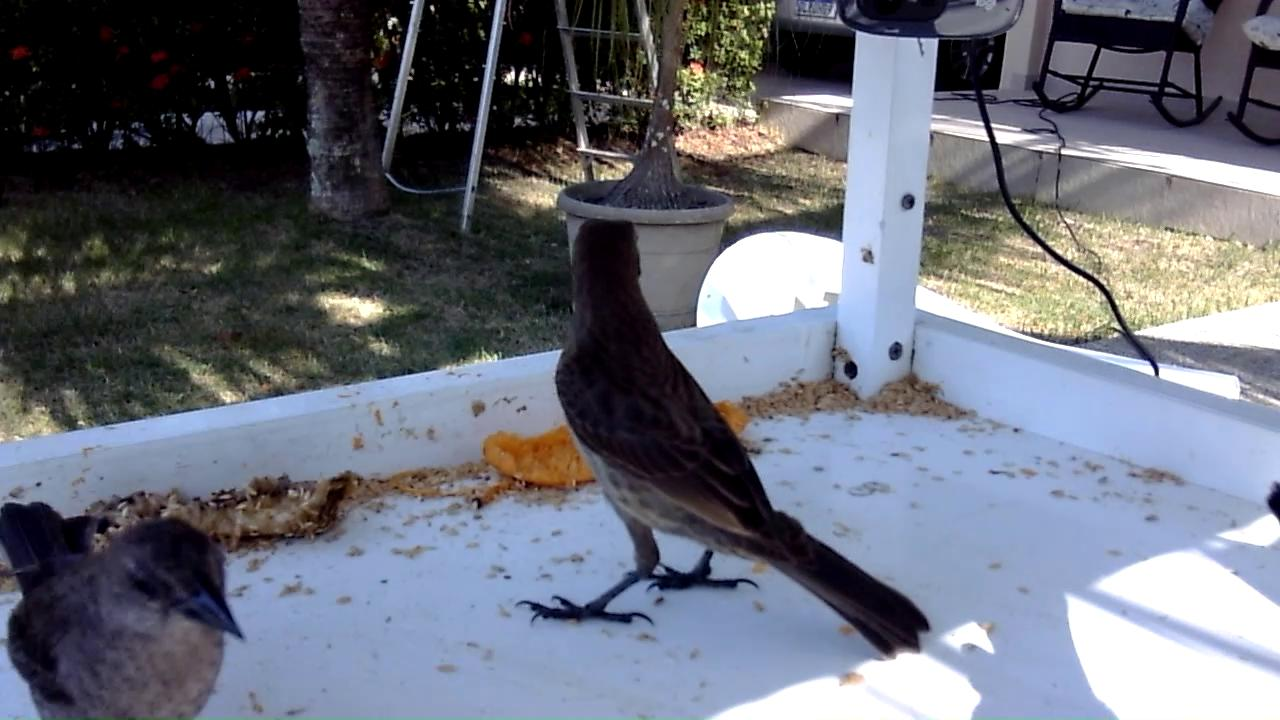chupim: (510, 215, 934, 669), (1, 496, 251, 720)
